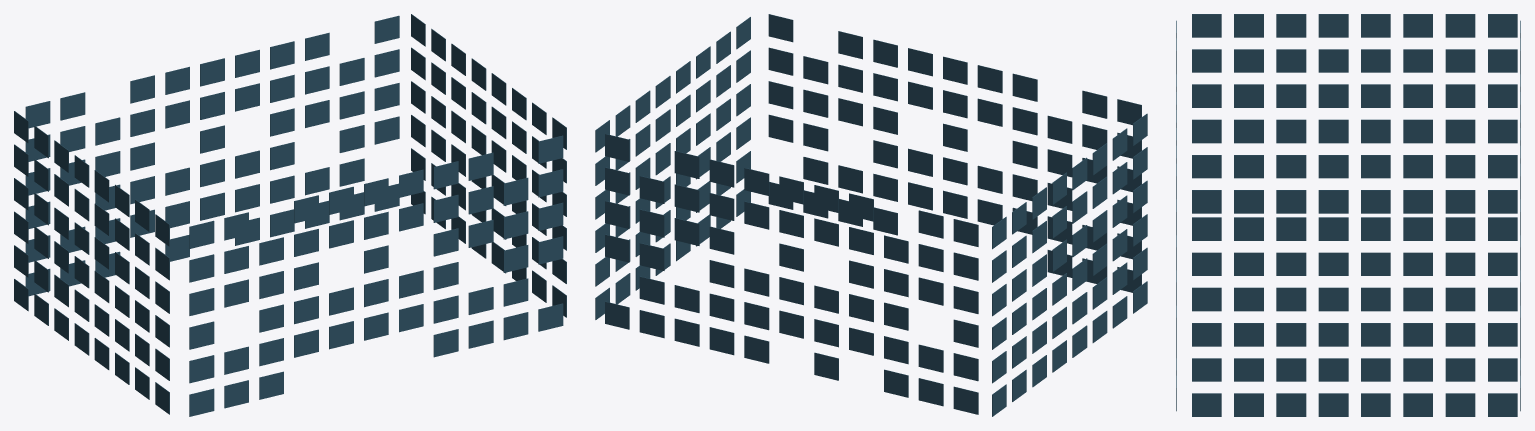
File: glass.dae
3 renders of one model, left to right at view 1: azimuth 30°, elevation 25°; view 2: azimuth 150°, elevation 25°; view 3: azimuth 270°, elevation 25°, orthographic. The views are drawn at different scales.
Bounding box in the file's own units: 42.13 × 30.13 × 19.24.
